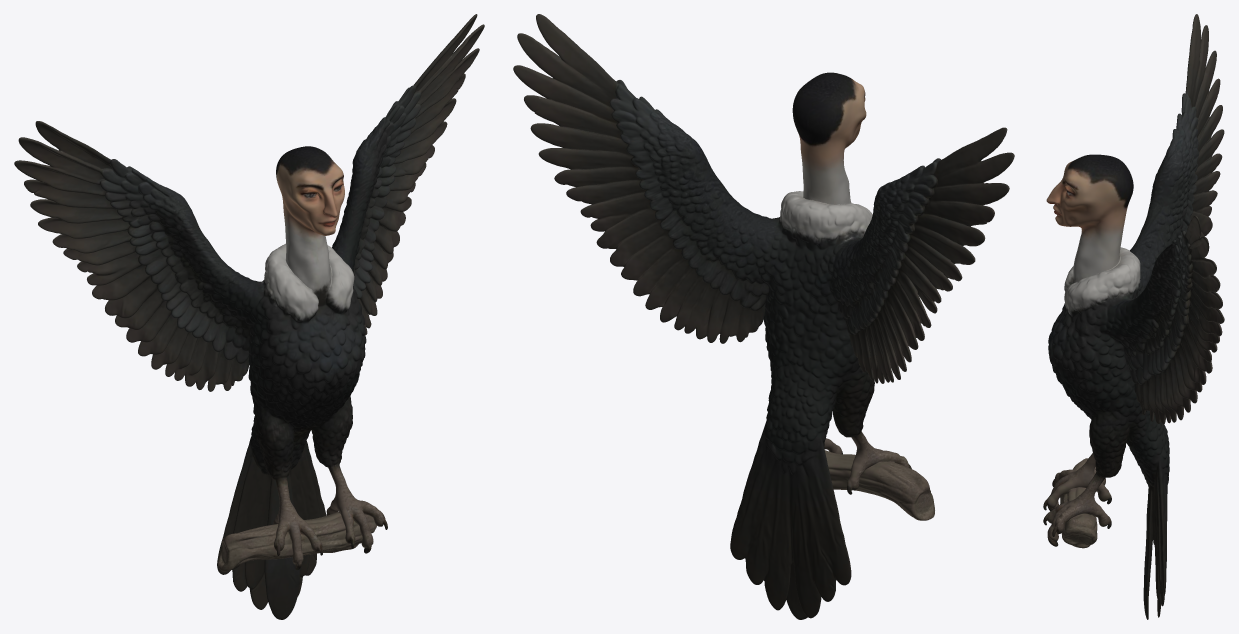
The model's file is 29-el-pájaro-que-no-era-de-este-mundo.-optimized.glb.
3 views of the same model, side by side, from view 1: azimuth 30°, elevation 25°; view 2: azimuth 150°, elevation 25°; view 3: azimuth 270°, elevation 25° (orthographic). The views are drawn at different scales.
Visible parts, largest first — view 1: tripo_node_ddcc457d-98c7-42dc-98b0-a1f946ccbc3f; view 2: tripo_node_ddcc457d-98c7-42dc-98b0-a1f946ccbc3f; view 3: tripo_node_ddcc457d-98c7-42dc-98b0-a1f946ccbc3f.
Boxes of the visible parts, x1,y1,x2,y2 form: tripo_node_ddcc457d-98c7-42dc-98b0-a1f946ccbc3f: (14, 14, 484, 619); tripo_node_ddcc457d-98c7-42dc-98b0-a1f946ccbc3f: (513, 14, 1014, 619); tripo_node_ddcc457d-98c7-42dc-98b0-a1f946ccbc3f: (1043, 14, 1224, 619).
Bounding box in the file's own units: 0.9136 × 1 × 0.3259.
Materials: 1 (1 with a texture image).
